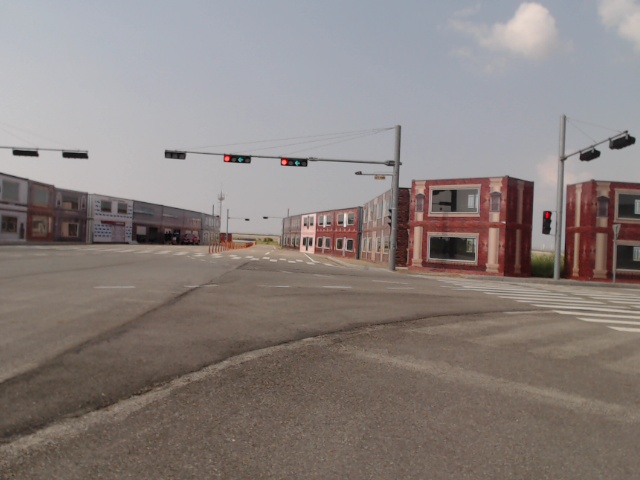left_green_4: (224, 155, 251, 163), (281, 159, 308, 167)
